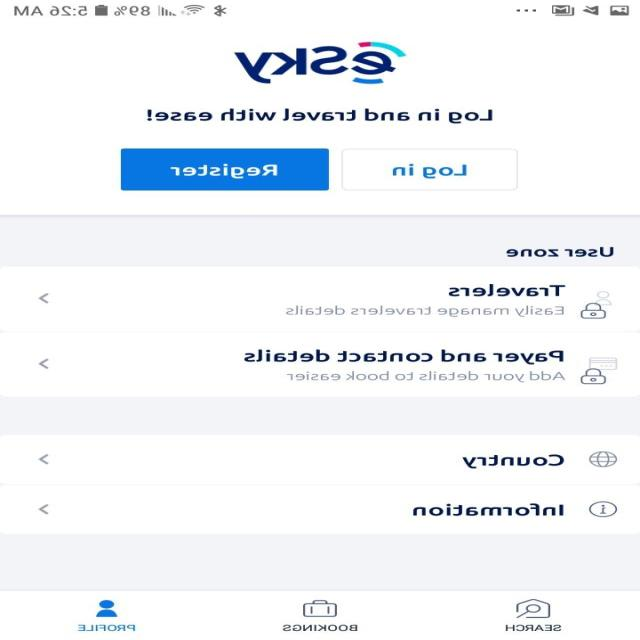Icon: (580, 357, 618, 384), (580, 291, 612, 319), (516, 598, 552, 618), (303, 599, 339, 617), (588, 500, 618, 517), (96, 599, 119, 617), (38, 292, 51, 304), (38, 358, 51, 369), (38, 453, 50, 464), (38, 504, 50, 514)
Image: (234, 41, 408, 85), (588, 450, 618, 467)
Text: (147, 108, 493, 124), (244, 348, 564, 365), (286, 304, 564, 317), (286, 370, 566, 382), (412, 502, 564, 516), (448, 283, 566, 296), (462, 454, 566, 468), (506, 247, 614, 257), (283, 624, 358, 632), (78, 624, 137, 632), (505, 624, 563, 632)
TextButton: (121, 148, 330, 191), (342, 148, 518, 191)
